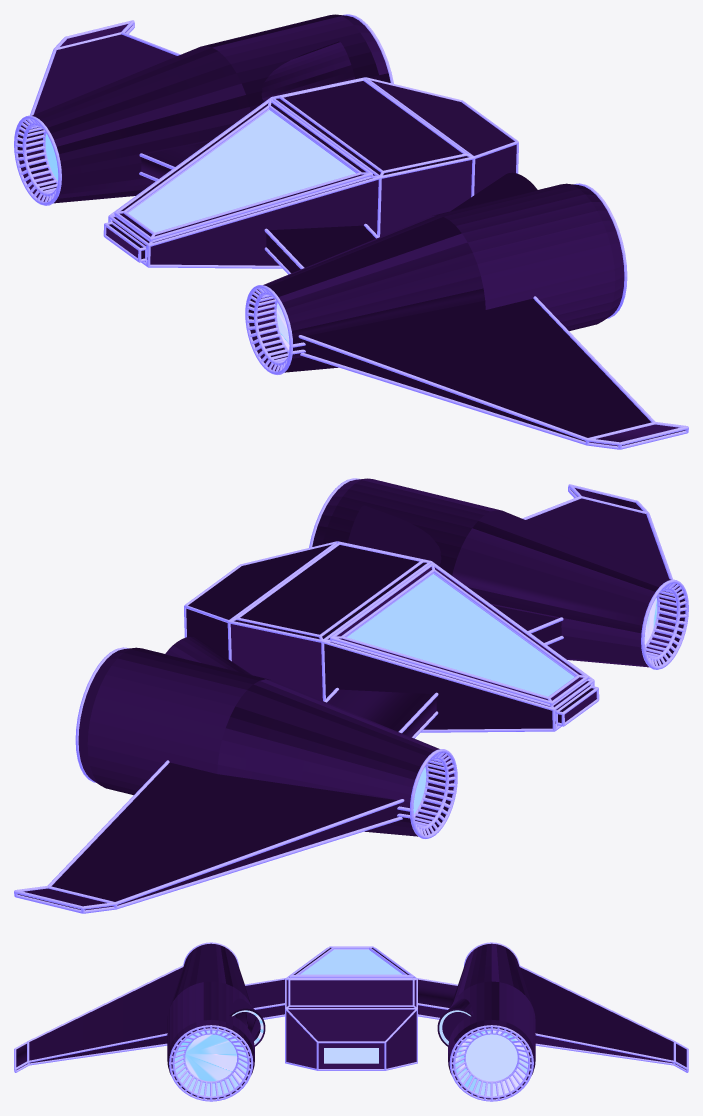
File: Spaceship.fbx
The picture shows the model from 3 angles, top to bottom: view 1: azimuth 30°, elevation 25°; view 2: azimuth 150°, elevation 25°; view 3: azimuth 270°, elevation 25°; orthographic projection. The views are drawn at different scales.
Parts seen in each view (by area): view 1: body, outline; view 2: body, outline; view 3: body, outline.
Part boxes in pixels (x1,y1,x2,y2): body: [17, 14, 685, 446]; outline: [14, 14, 688, 449]; body: [17, 478, 685, 910]; outline: [14, 478, 688, 913]; body: [16, 943, 686, 1099]; outline: [14, 942, 688, 1101].
Size of the model in its own units: 328 by 114 by 854.
